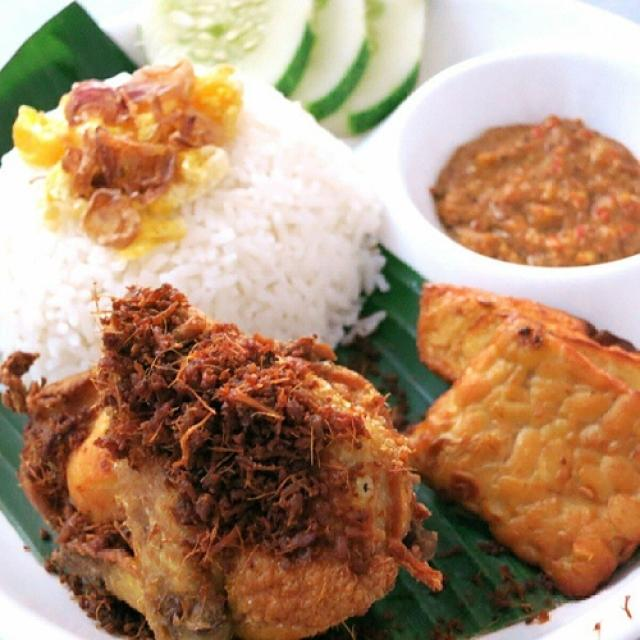米饭主食: (9, 8, 630, 626)
